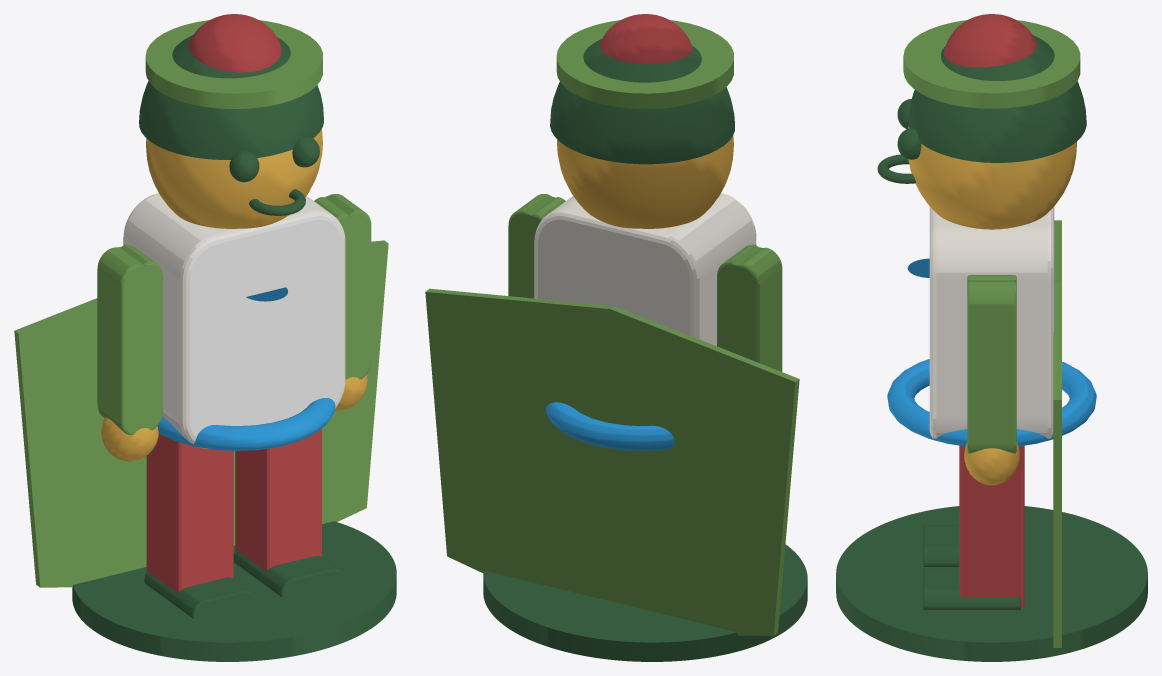
File: 1127_左传_晋灵公.glb
3 views of the same model, side by side, from view 1: azimuth 30°, elevation 25°; view 2: azimuth 150°, elevation 25°; view 3: azimuth 270°, elevation 25° (orthographic).
Parts seen in each view (by area): view 1: card_1127; view 2: card_1127; view 3: card_1127.
Part boxes in pixels (x1=…): card_1127: x1=14, y1=14, x2=396, y2=661; card_1127: x1=425, y1=14, x2=807, y2=661; card_1127: x1=836, y1=14, x2=1147, y2=661.
Size of the model in its own units: 0.658 by 1 by 0.4818.
